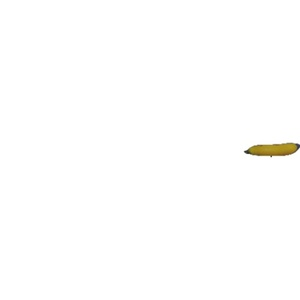banana: (244, 140, 299, 158)
